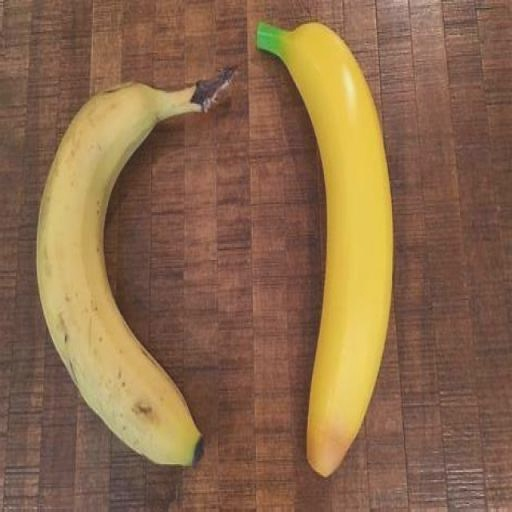fruit: (327, 135, 455, 487), (86, 39, 375, 126)
